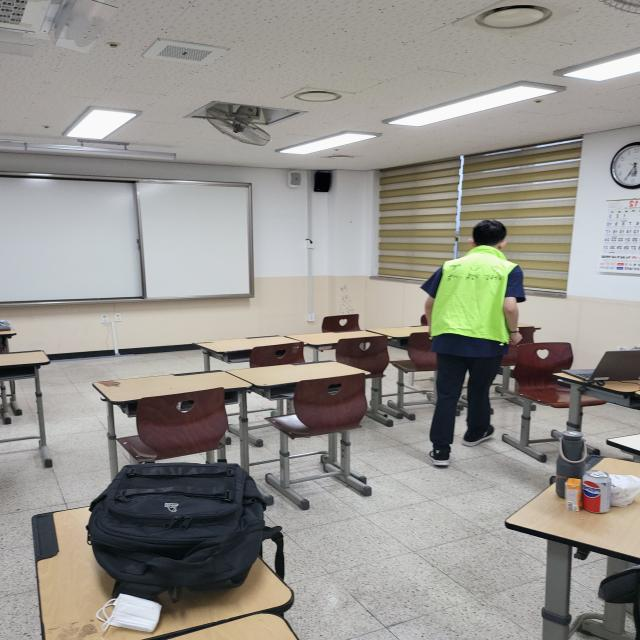weston_spy: (422, 241, 524, 352)
